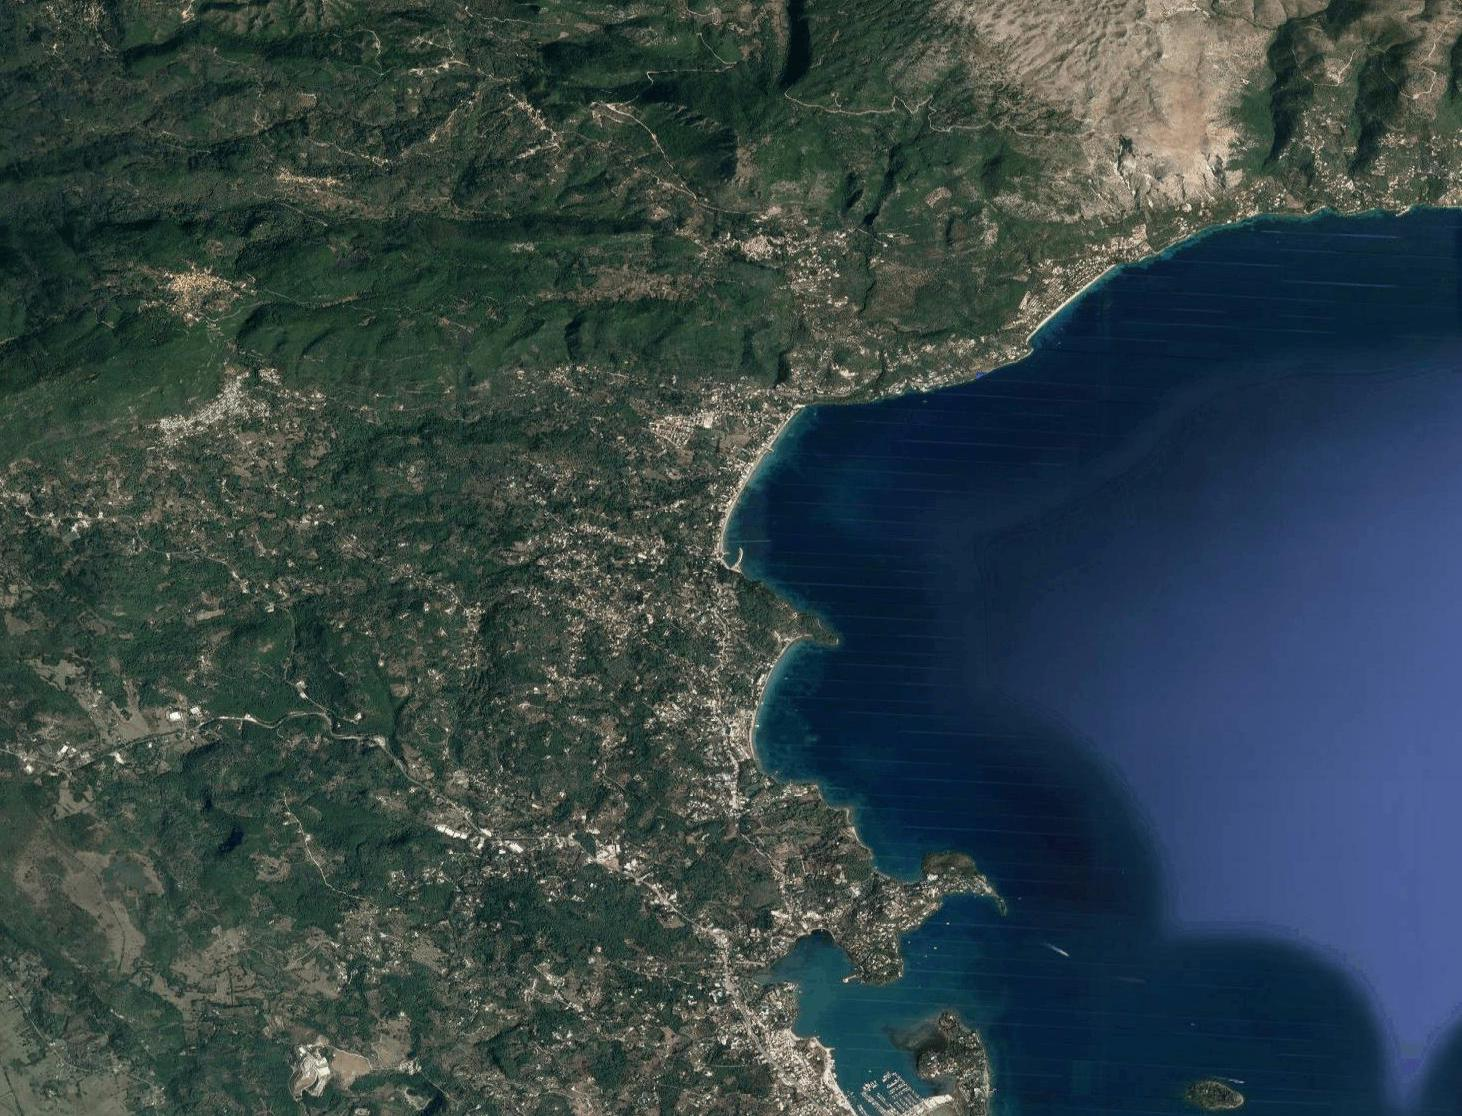harbor: (842, 1057, 946, 1116), (716, 540, 746, 571)
